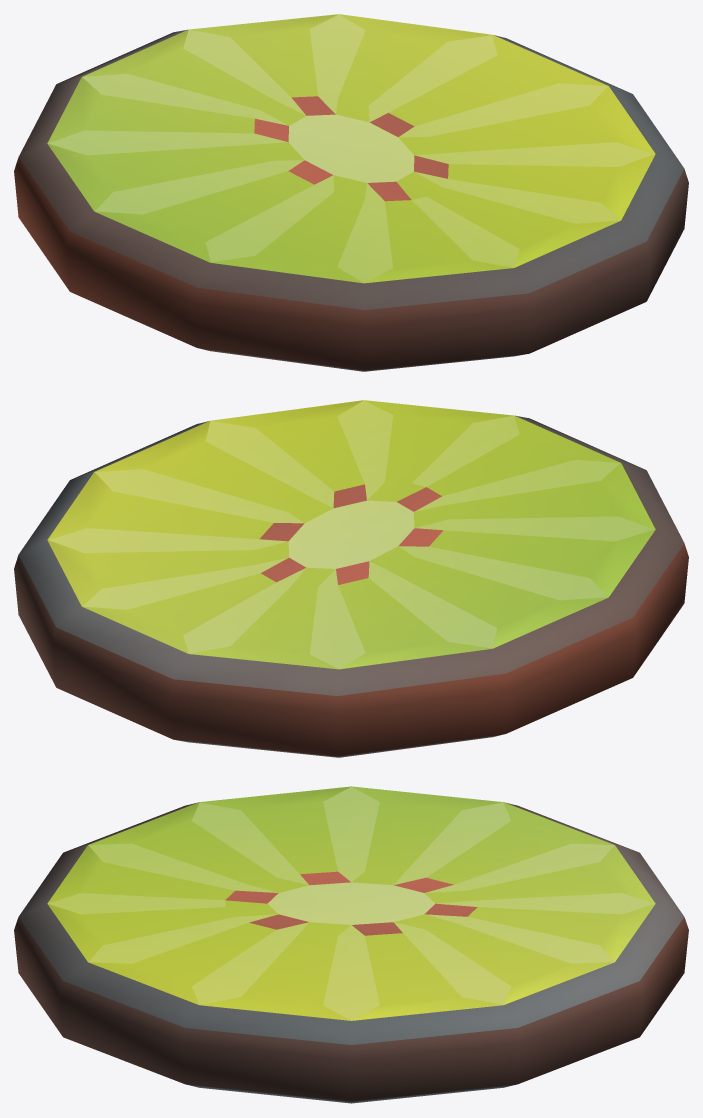
Rendered from kiwi_003.fbx.
The picture shows the model from 3 angles, top to bottom: view 1: azimuth 30°, elevation 25°; view 2: azimuth 150°, elevation 25°; view 3: azimuth 270°, elevation 25°; orthographic projection. The views are drawn at different scales.
Parts seen in each view (by area): view 1: kiwi_003; view 2: kiwi_003; view 3: kiwi_003.
Boxes of the visible parts, x1,y1,x2,y2 form: kiwi_003: (14,14,688,371); kiwi_003: (14,400,688,757); kiwi_003: (14,786,688,1103).
Bounding box in the file's own units: 5.76 × 6.31 × 0.8524.
